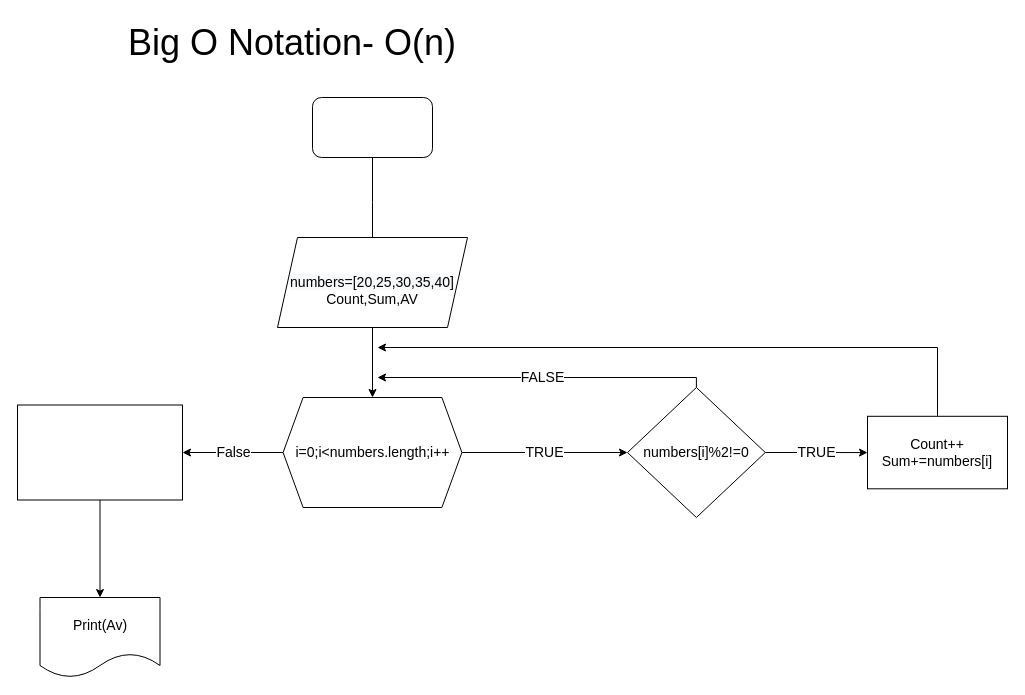
This 1025x695 diagram has some shape labels left out. Each missing label, with the box of its shape:
AV=Sum/Count: (16, 404, 182, 500)
Start: (312, 96, 432, 158)
